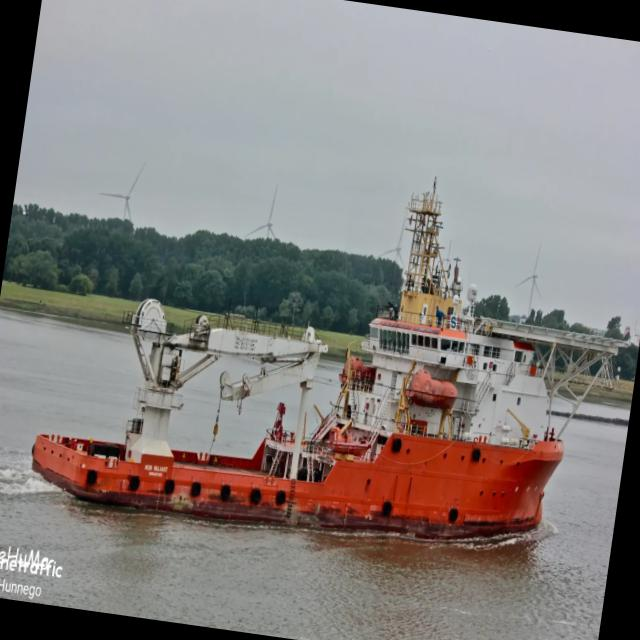Offshore: (32, 185, 619, 539)
